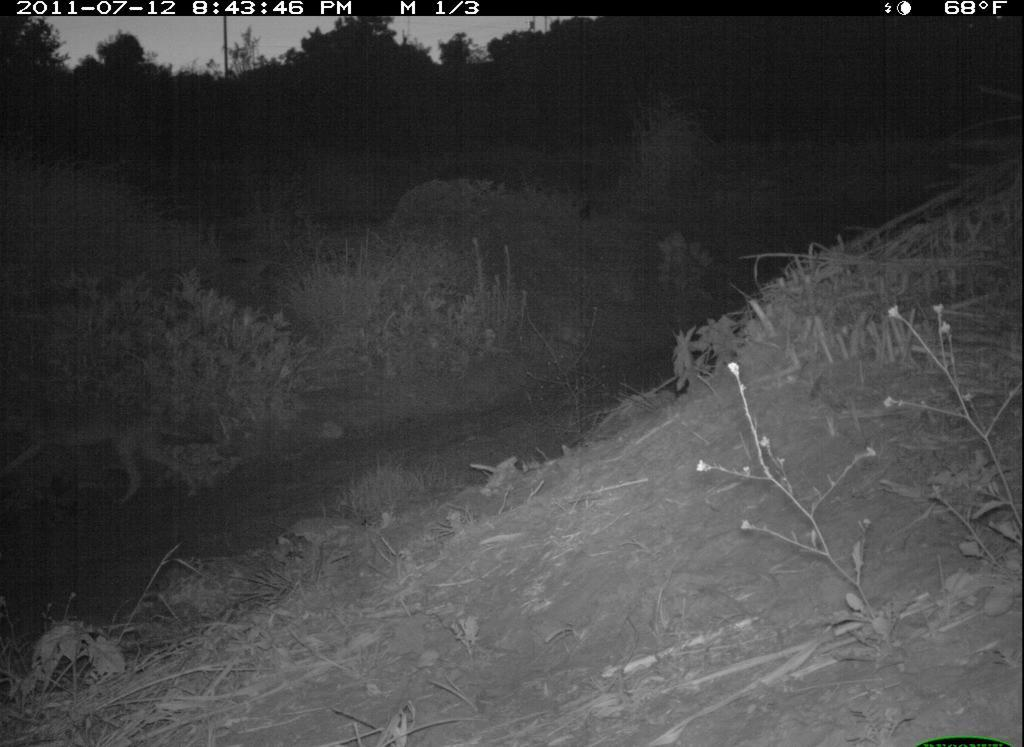coyote: (1, 381, 218, 526)
